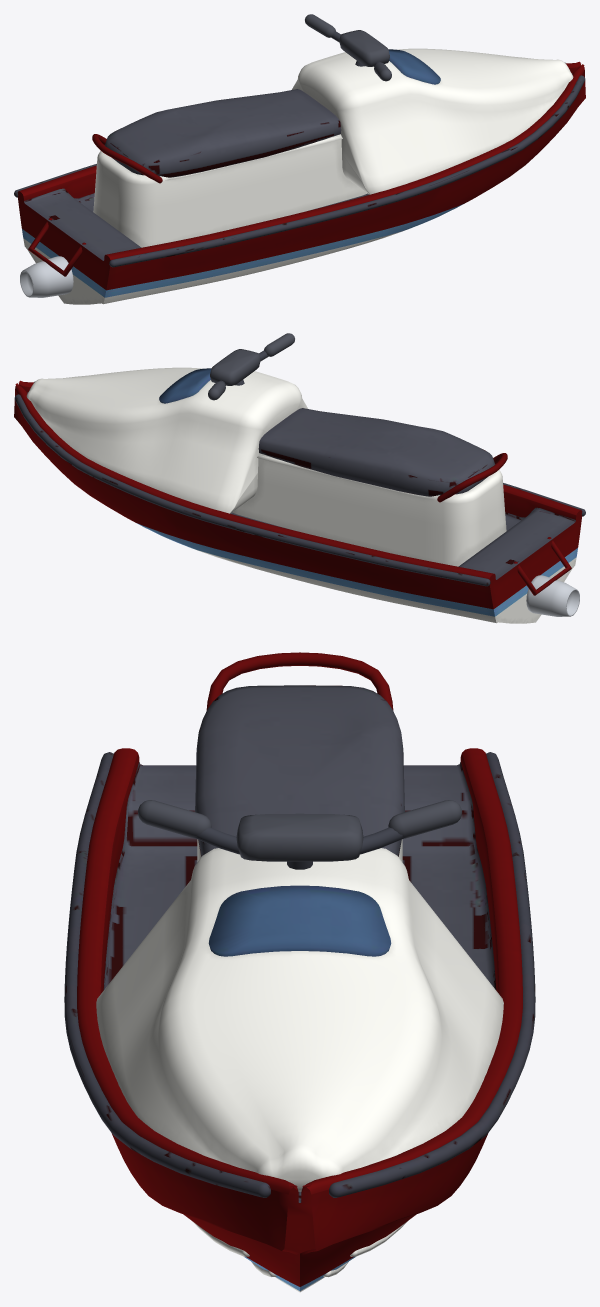
The model's file is sea-doo-gtx-170-2022.glb.
3 renders of one model, top to bottom at view 1: azimuth 30°, elevation 25°; view 2: azimuth 150°, elevation 25°; view 3: azimuth 270°, elevation 25°, orthographic. The views are drawn at different scales.
Visible parts, largest first — view 1: jet-ski_body, jet-ski_handlebar, jet-ski_jet_nozzle; view 2: jet-ski_body, jet-ski_handlebar, jet-ski_jet_nozzle; view 3: jet-ski_body, jet-ski_handlebar.
Part boxes in pixels (box(x1,y1,x2,y2)): jet-ski_body: box(14, 48, 585, 304); jet-ski_handlebar: box(305, 14, 391, 81); jet-ski_jet_nozzle: box(20, 256, 73, 297); jet-ski_body: box(14, 367, 585, 623); jet-ski_handlebar: box(208, 333, 294, 400); jet-ski_jet_nozzle: box(526, 575, 579, 616); jet-ski_body: box(64, 652, 535, 1292); jet-ski_handlebar: box(138, 800, 461, 869).
Size of the model in its own units: 3.58 by 1.21 by 1.32.
Materials: 4 (1 with a texture image).
